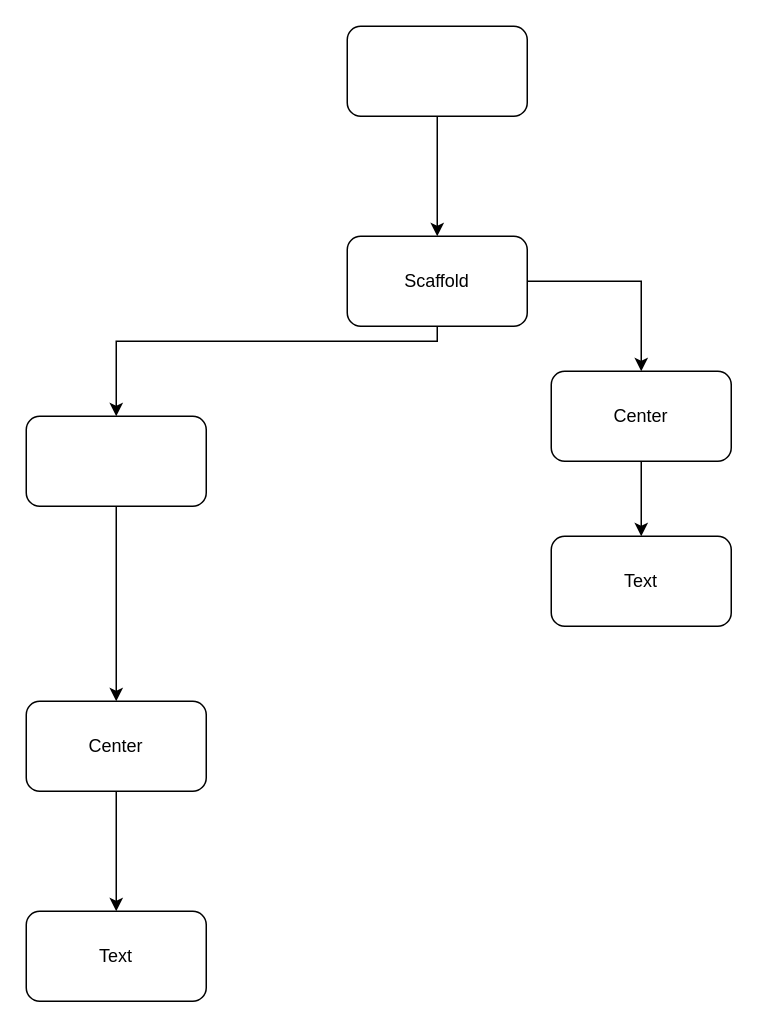
The diagram is 758 pixels wide and 1028 high, and some of its shapes have lost their labels. Each missing label, with the centre of its shape:
"AppBar" goes at (x=115, y=460).
"Material App" goes at (x=436, y=70).
